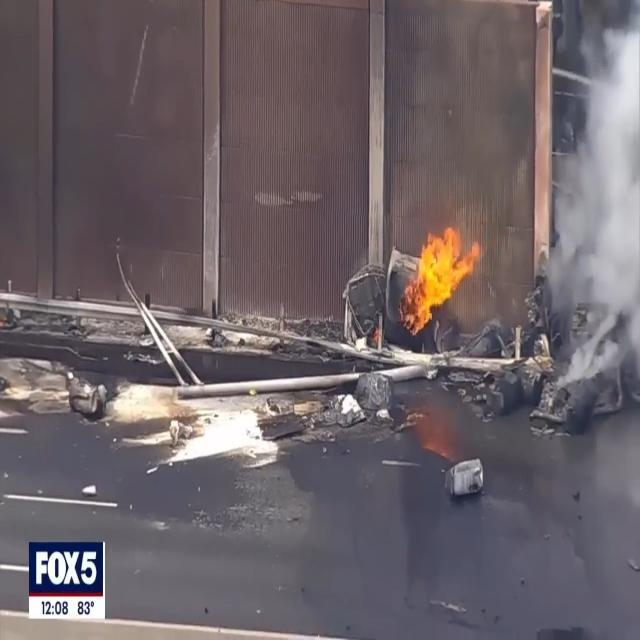fire: (406, 223, 476, 336)
